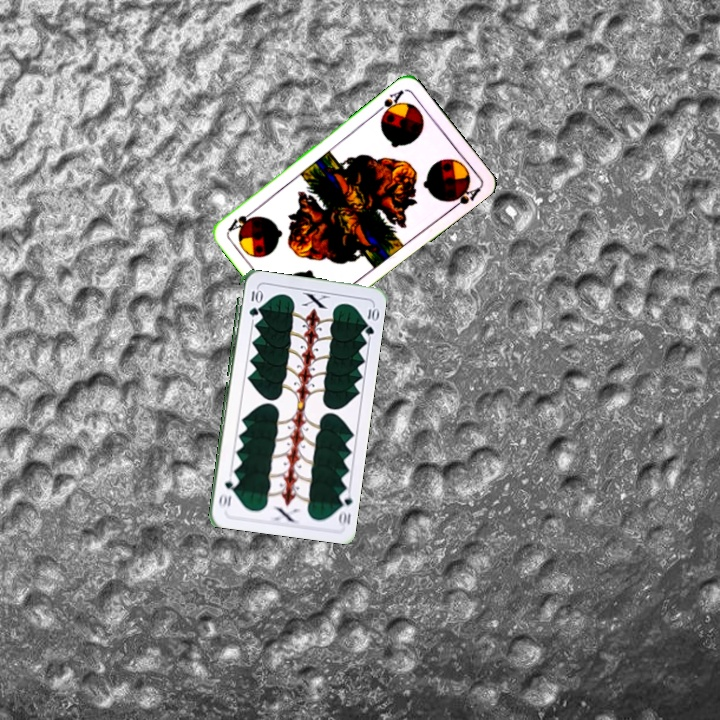G10: (334, 487, 355, 528), (245, 285, 262, 319)
SA: (372, 86, 407, 120)
